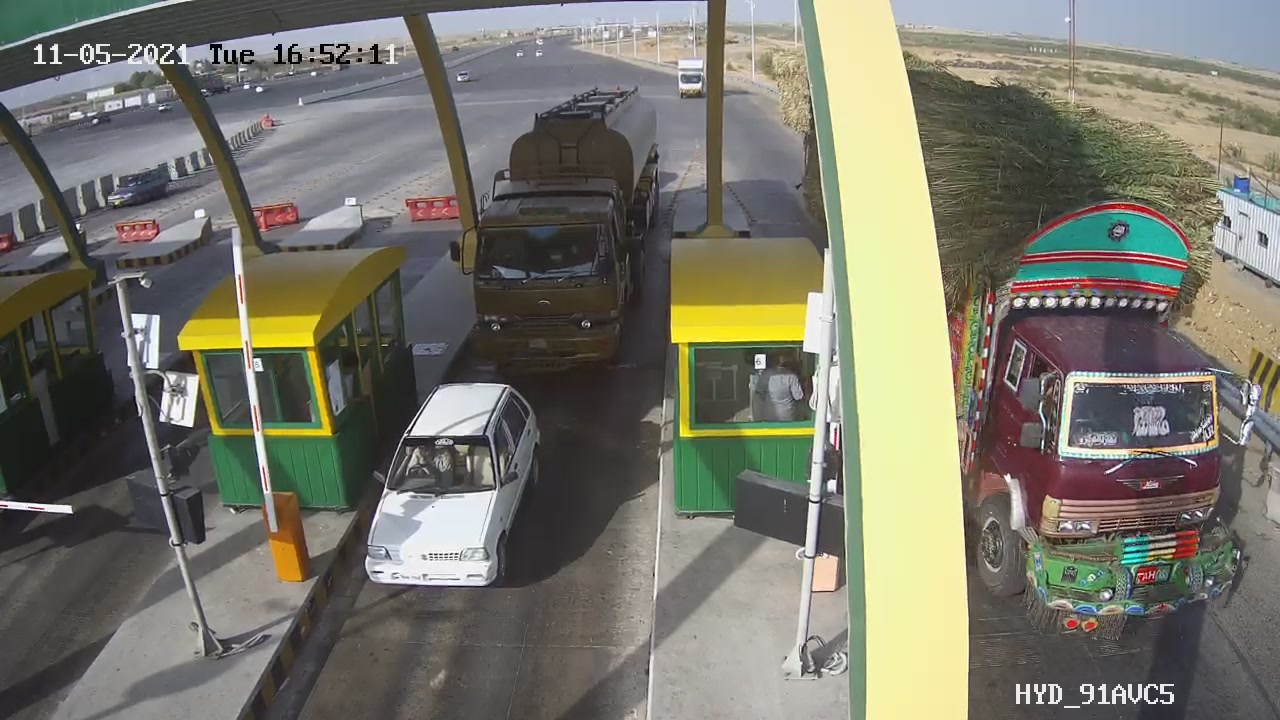F1: (348, 367, 570, 605)
F6: (466, 86, 666, 378)
